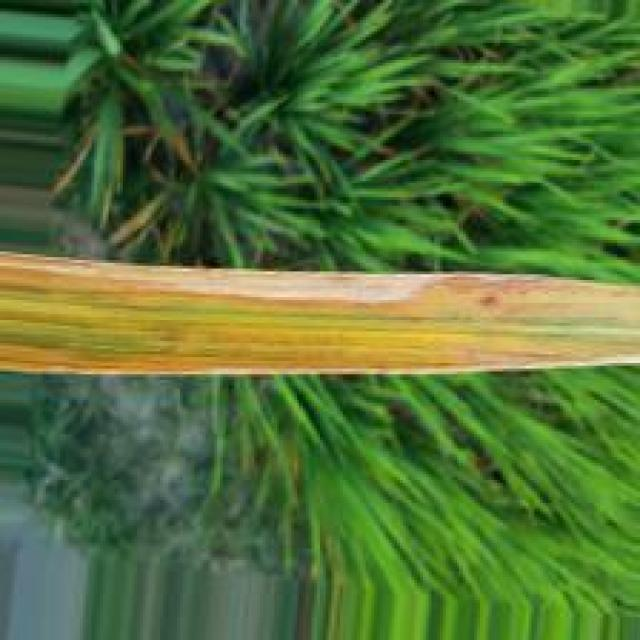Bacterial_Leaf_Blight: (0, 247, 636, 379)
